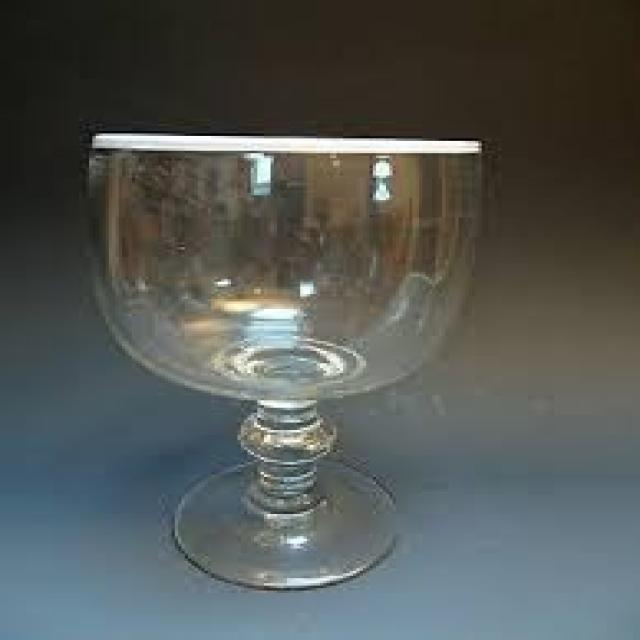Glass: (85, 136, 489, 593)
